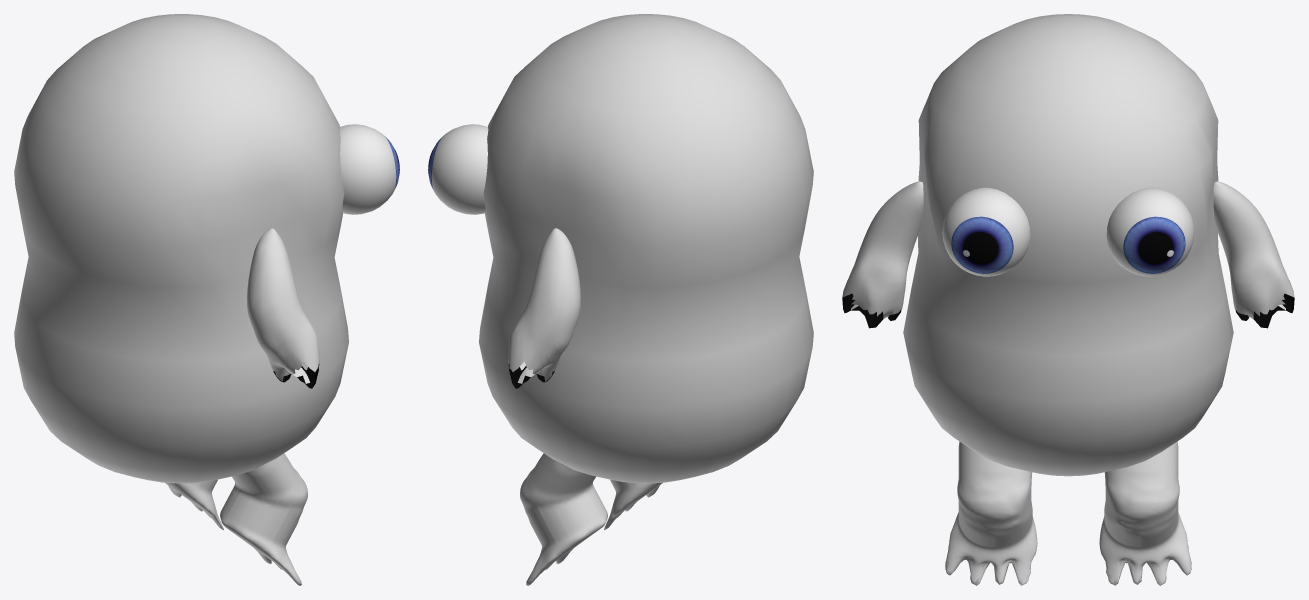
File: alien.glb
The picture shows the model from 3 angles, left to right: view 1: azimuth 30°, elevation 25°; view 2: azimuth 150°, elevation 25°; view 3: azimuth 270°, elevation 25°; orthographic projection.
Parts seen in each view (by area): view 1: Cylinder.004; view 2: Cylinder.004; view 3: Cylinder.004.
Part boxes in pixels (x1,y1,x2,y2): Cylinder.004: (14,14,399,585); Cylinder.004: (428,14,813,585); Cylinder.004: (842,14,1294,585).
Size of the model in its own units: 0.5548 by 0.8965 by 0.6986.
4 materials, 1 textured.
